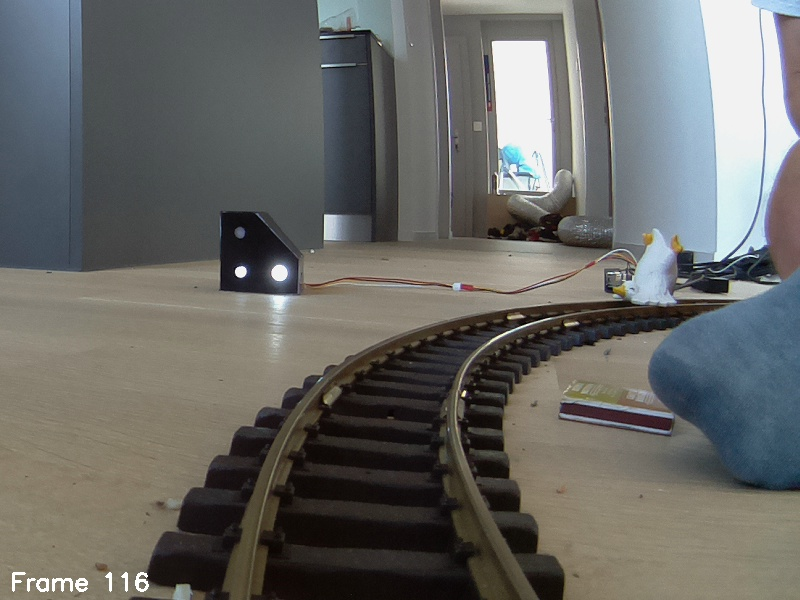Ente: (609, 226, 684, 312)
Halt: (220, 212, 302, 295)
